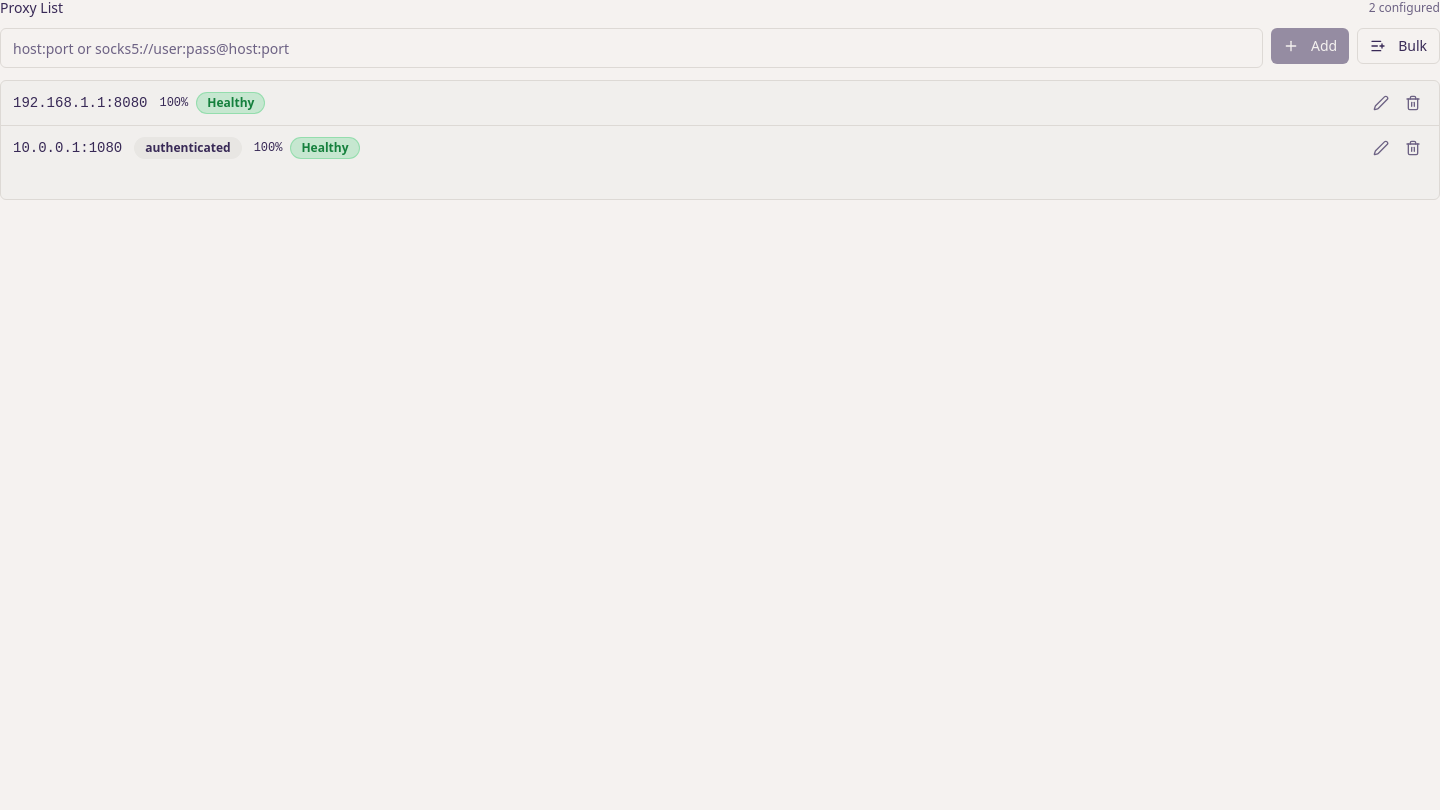
Scenario: ProxyList › edit proxy › shows edit dialog when edit is clicked
This screenshot has width=1440, height=810.
Click the button named "edit" in the row of "8080". click: click(1381, 103)
box: [1367,89,1395,117]
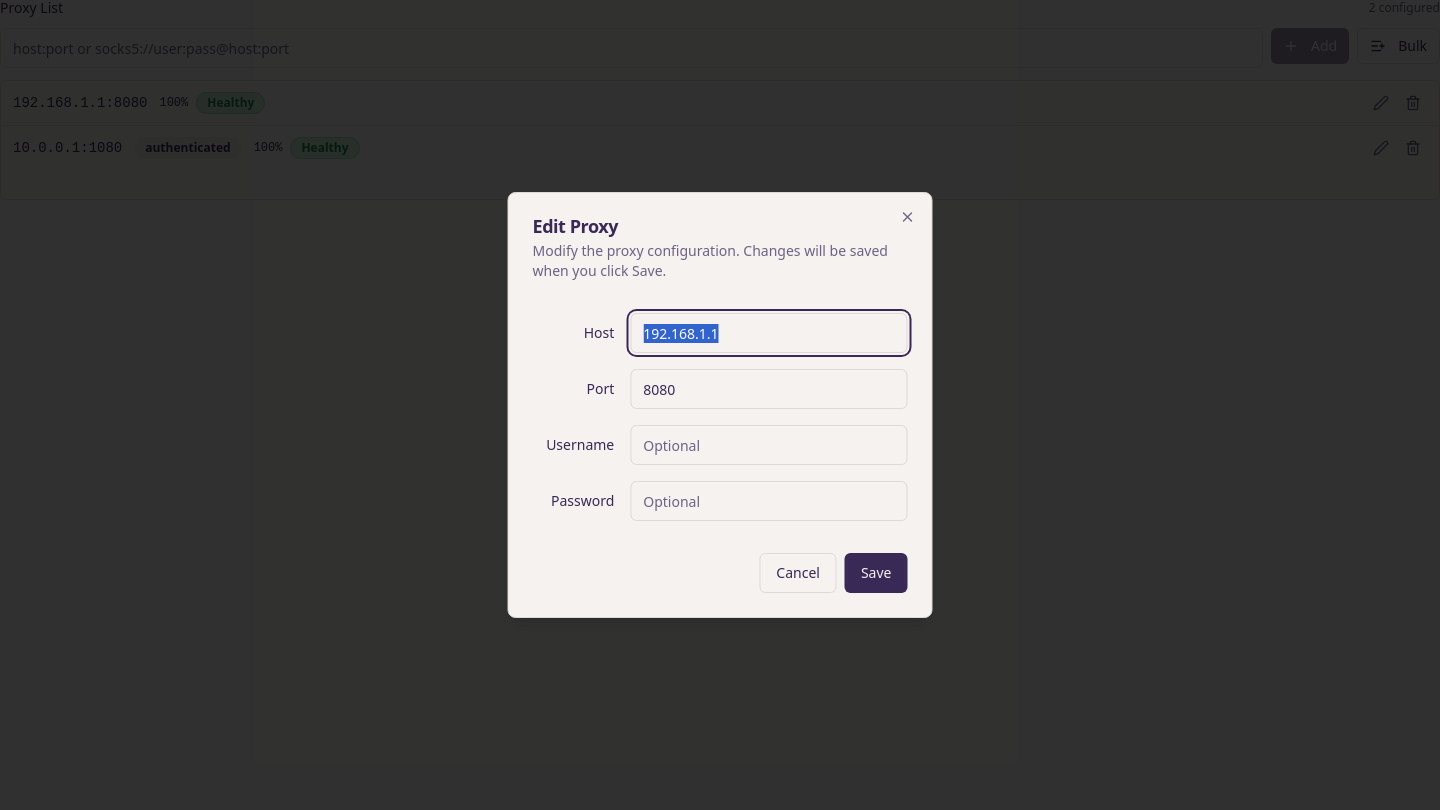
Check: the heading "Edit Proxy" is shown, box [532,214,618,238]
